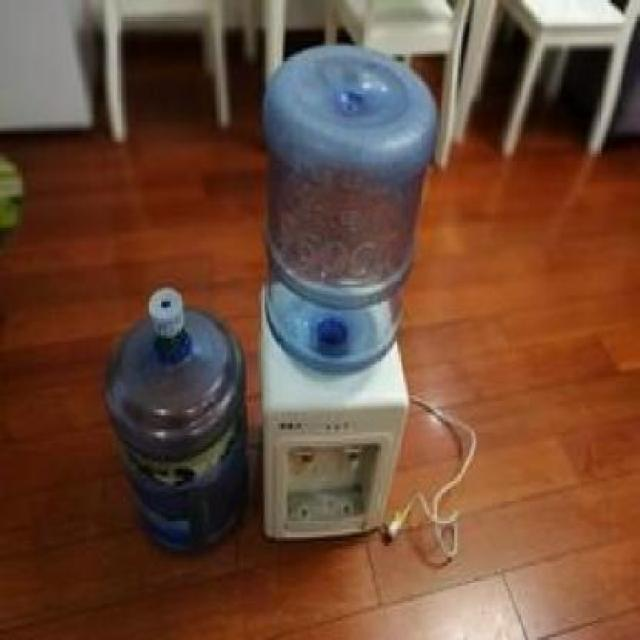coolerbottle: (260, 37, 438, 382), (100, 280, 258, 563)
